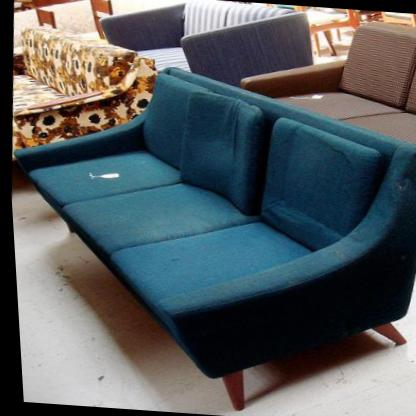Sofa: (3, 55, 416, 416), (231, 11, 416, 171), (8, 13, 159, 164), (98, 0, 319, 89)
